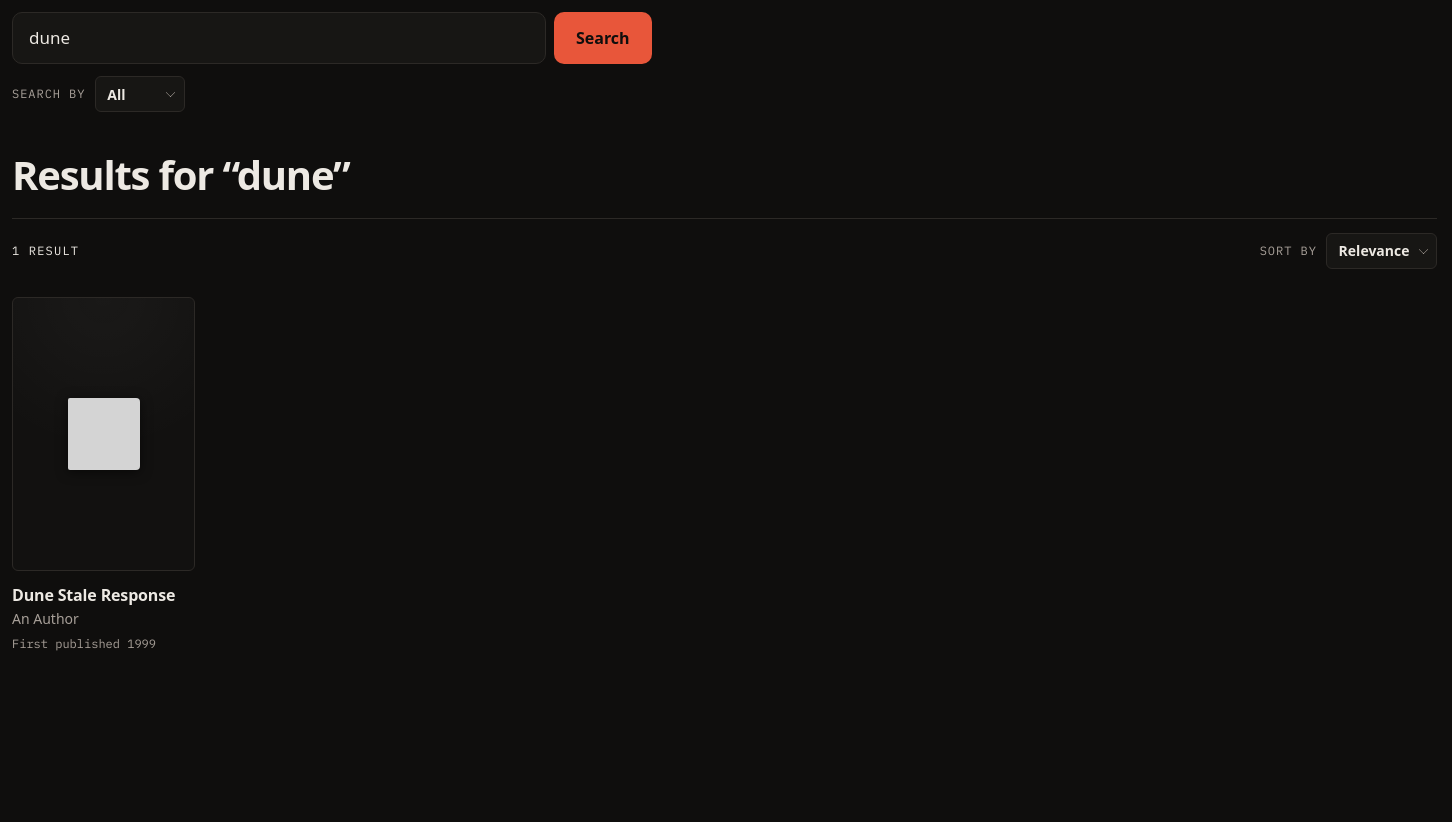
SearchPage - stale responses cannot win › aborts the in-flight request when the sort changes mid-flight
Expected: the heading "Dune Stale Response" is shown, left=12, top=585, right=195, bottom=605
Select "Newest" in the dropdown labelled "Sort by" at (1382, 251), box left=1326, top=233, right=1437, bottom=269
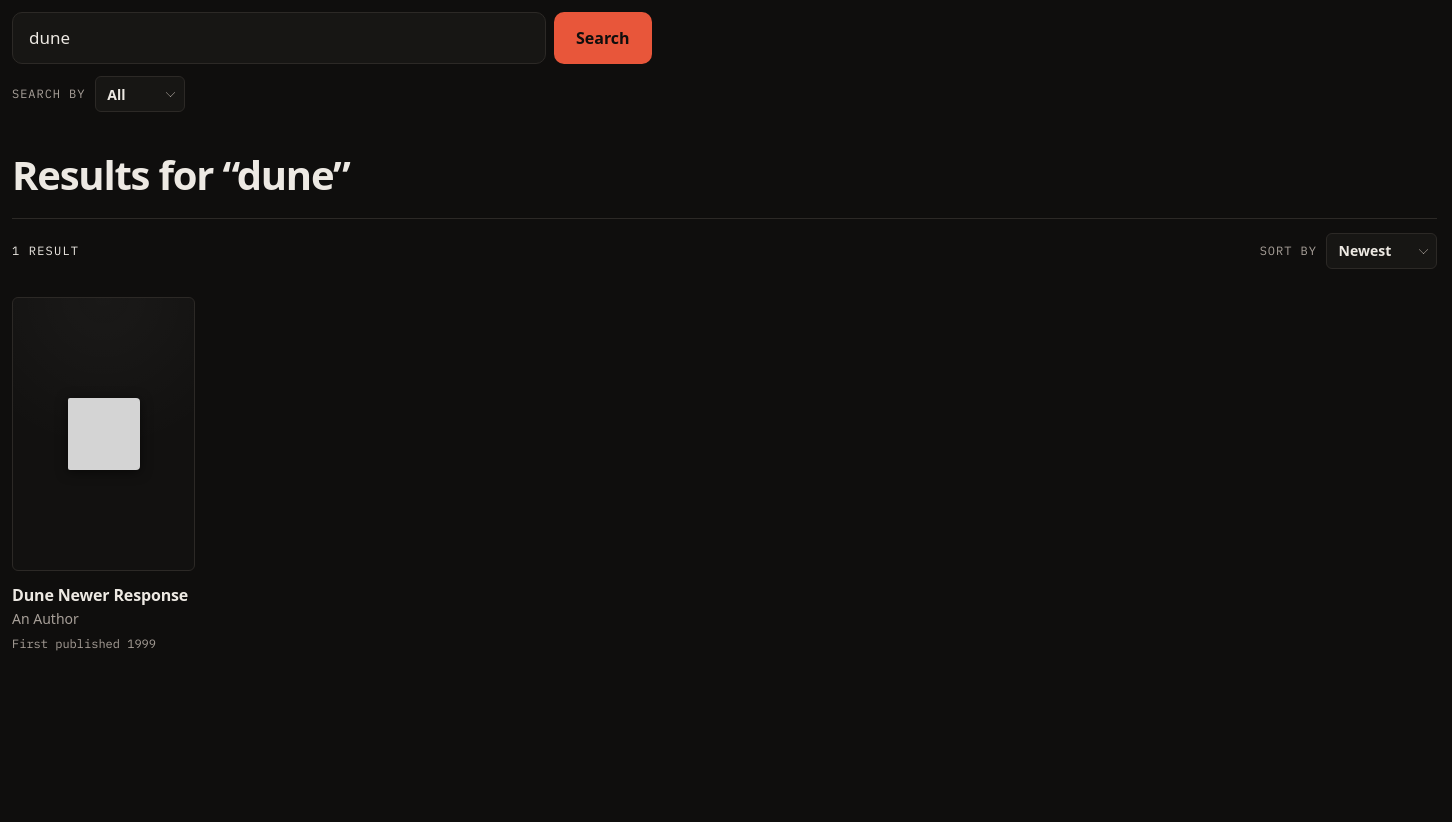
Expected: the heading "Dune Newer Response" is shown, left=12, top=585, right=195, bottom=605
